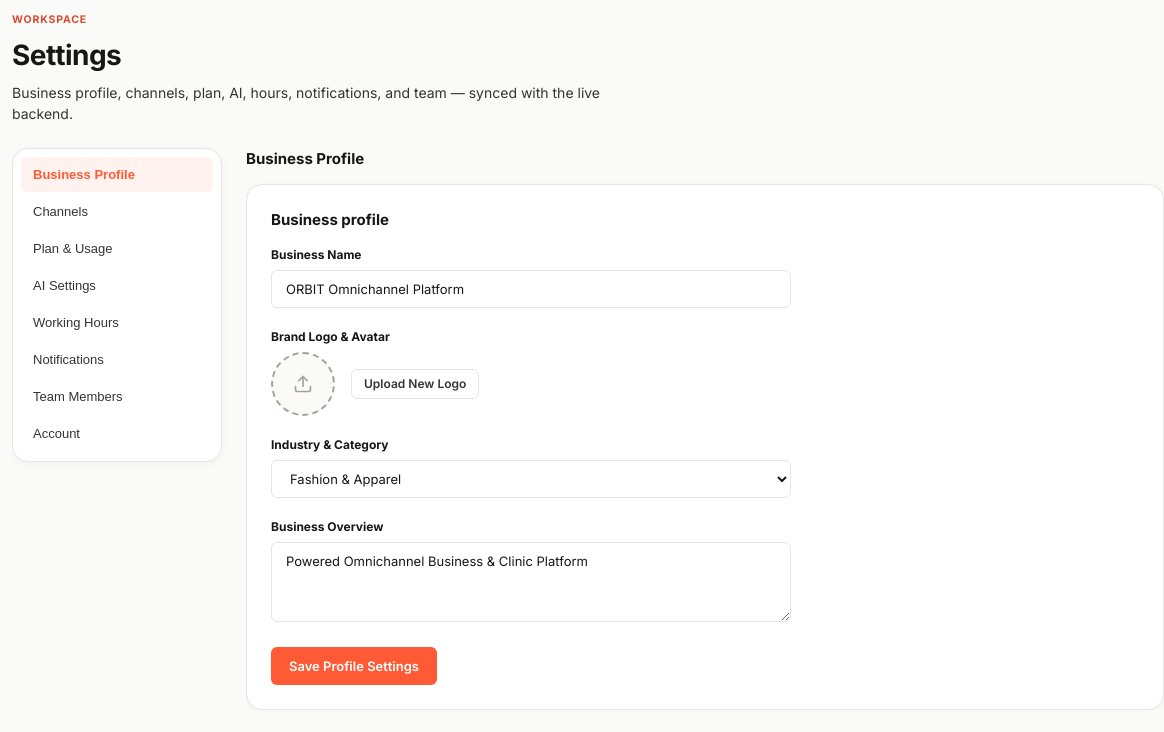
Settings panels & workflows › displays plan and usage data when backend returns active plan
This screenshot has width=1164, height=732.
Click the button "Plan & Usage".
click(117, 248)  # box [21,231,213,266]
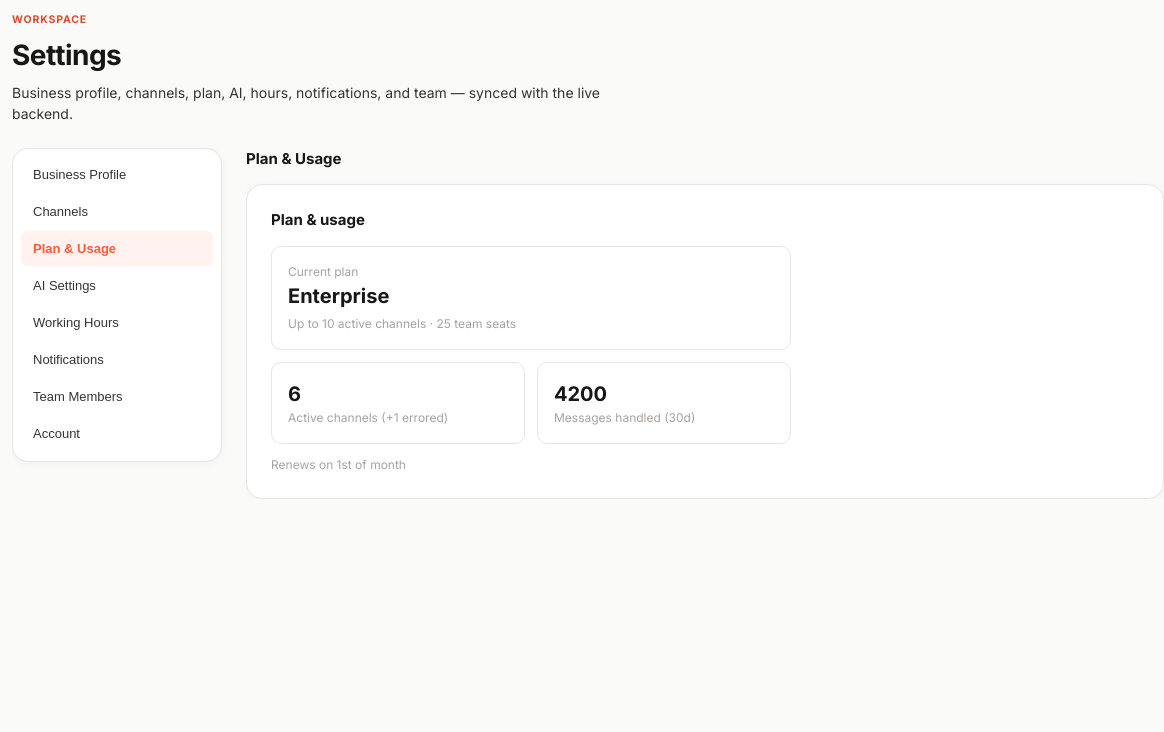
Expected: the text "Enterprise" is shown, [288,284,389,308]
Expected: the text "4200" is shown, [554,382,607,406]
Expected: the text "Renews on 1st of month" is shown, [271,457,406,472]
